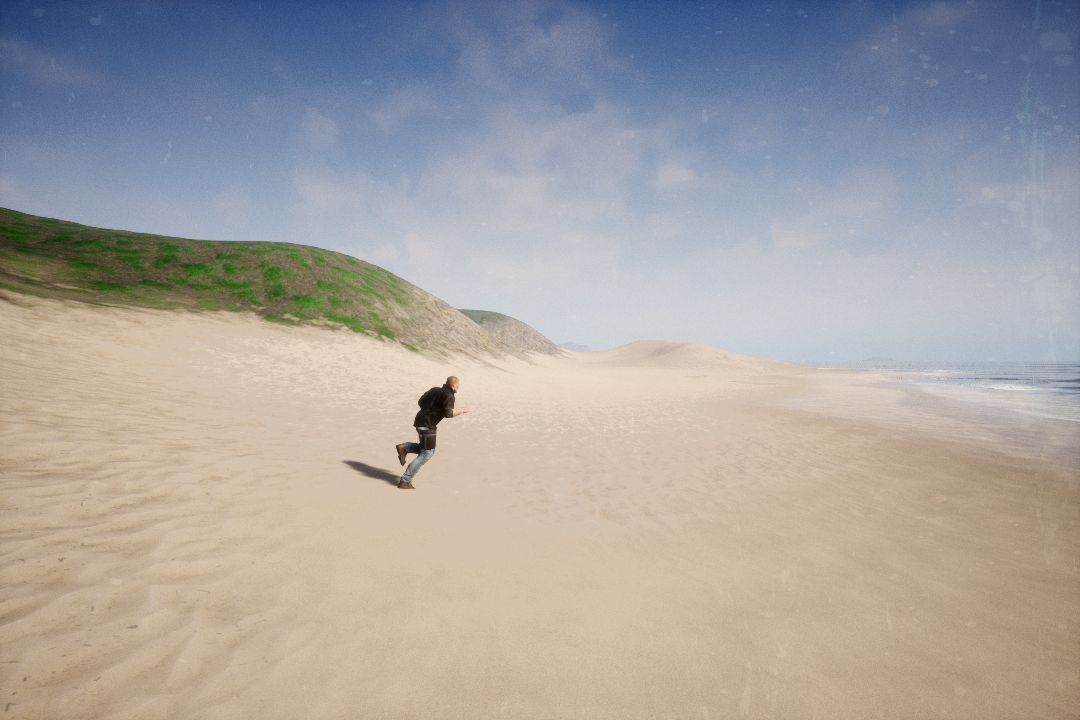person: (394, 366, 469, 494)
